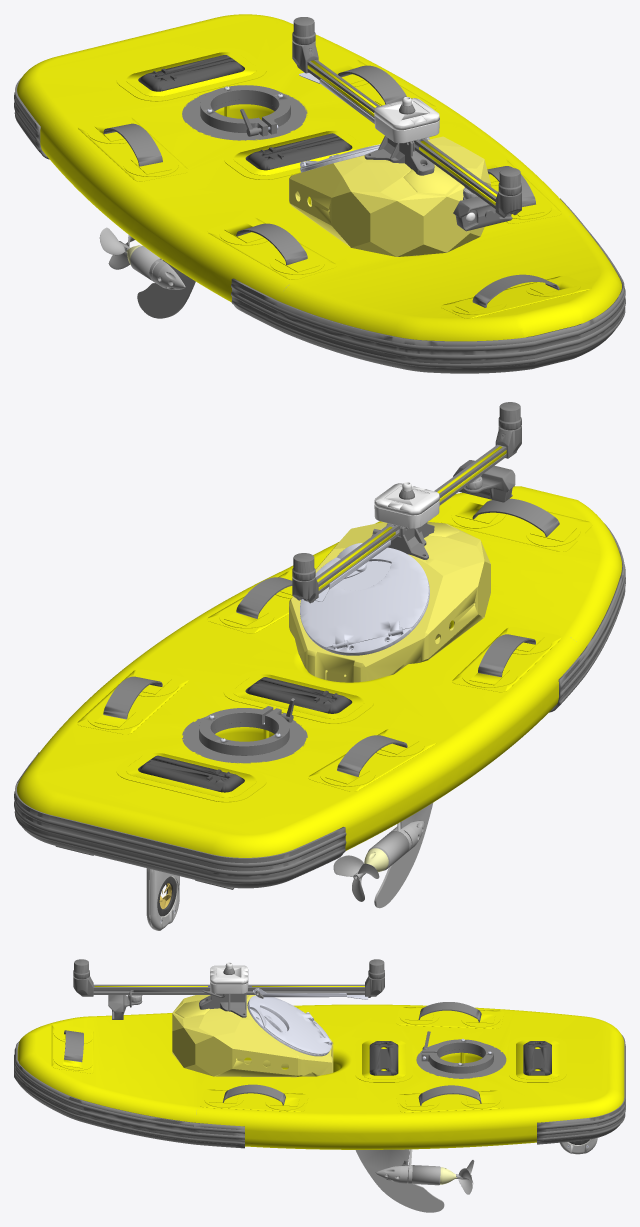
Rendered from ALL.glb.
The picture shows the model from 3 angles, top to bottom: view 1: azimuth 30°, elevation 25°; view 2: azimuth 150°, elevation 25°; view 3: azimuth 270°, elevation 25°; orthographic projection. The views are drawn at different scales.
Visible parts, largest first — view 1: seeker boat assy; view 2: seeker boat assy; view 3: seeker boat assy.
Part boxes in pixels (x1=…): seeker boat assy: x1=14, y1=14, x2=625, y2=373; seeker boat assy: x1=14, y1=402, x2=625, y2=930; seeker boat assy: x1=14, y1=959, x2=625, y2=1212.
Bounding box in the file's own units: 0.7428 × 0.5993 × 1.59.
